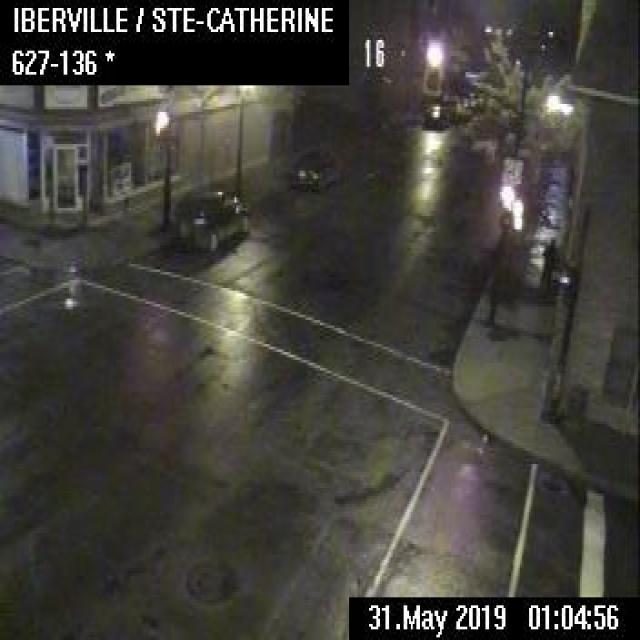pedestrian: (538, 234, 555, 290)
vehicle: (164, 182, 245, 254), (286, 144, 337, 191), (418, 96, 449, 128)
